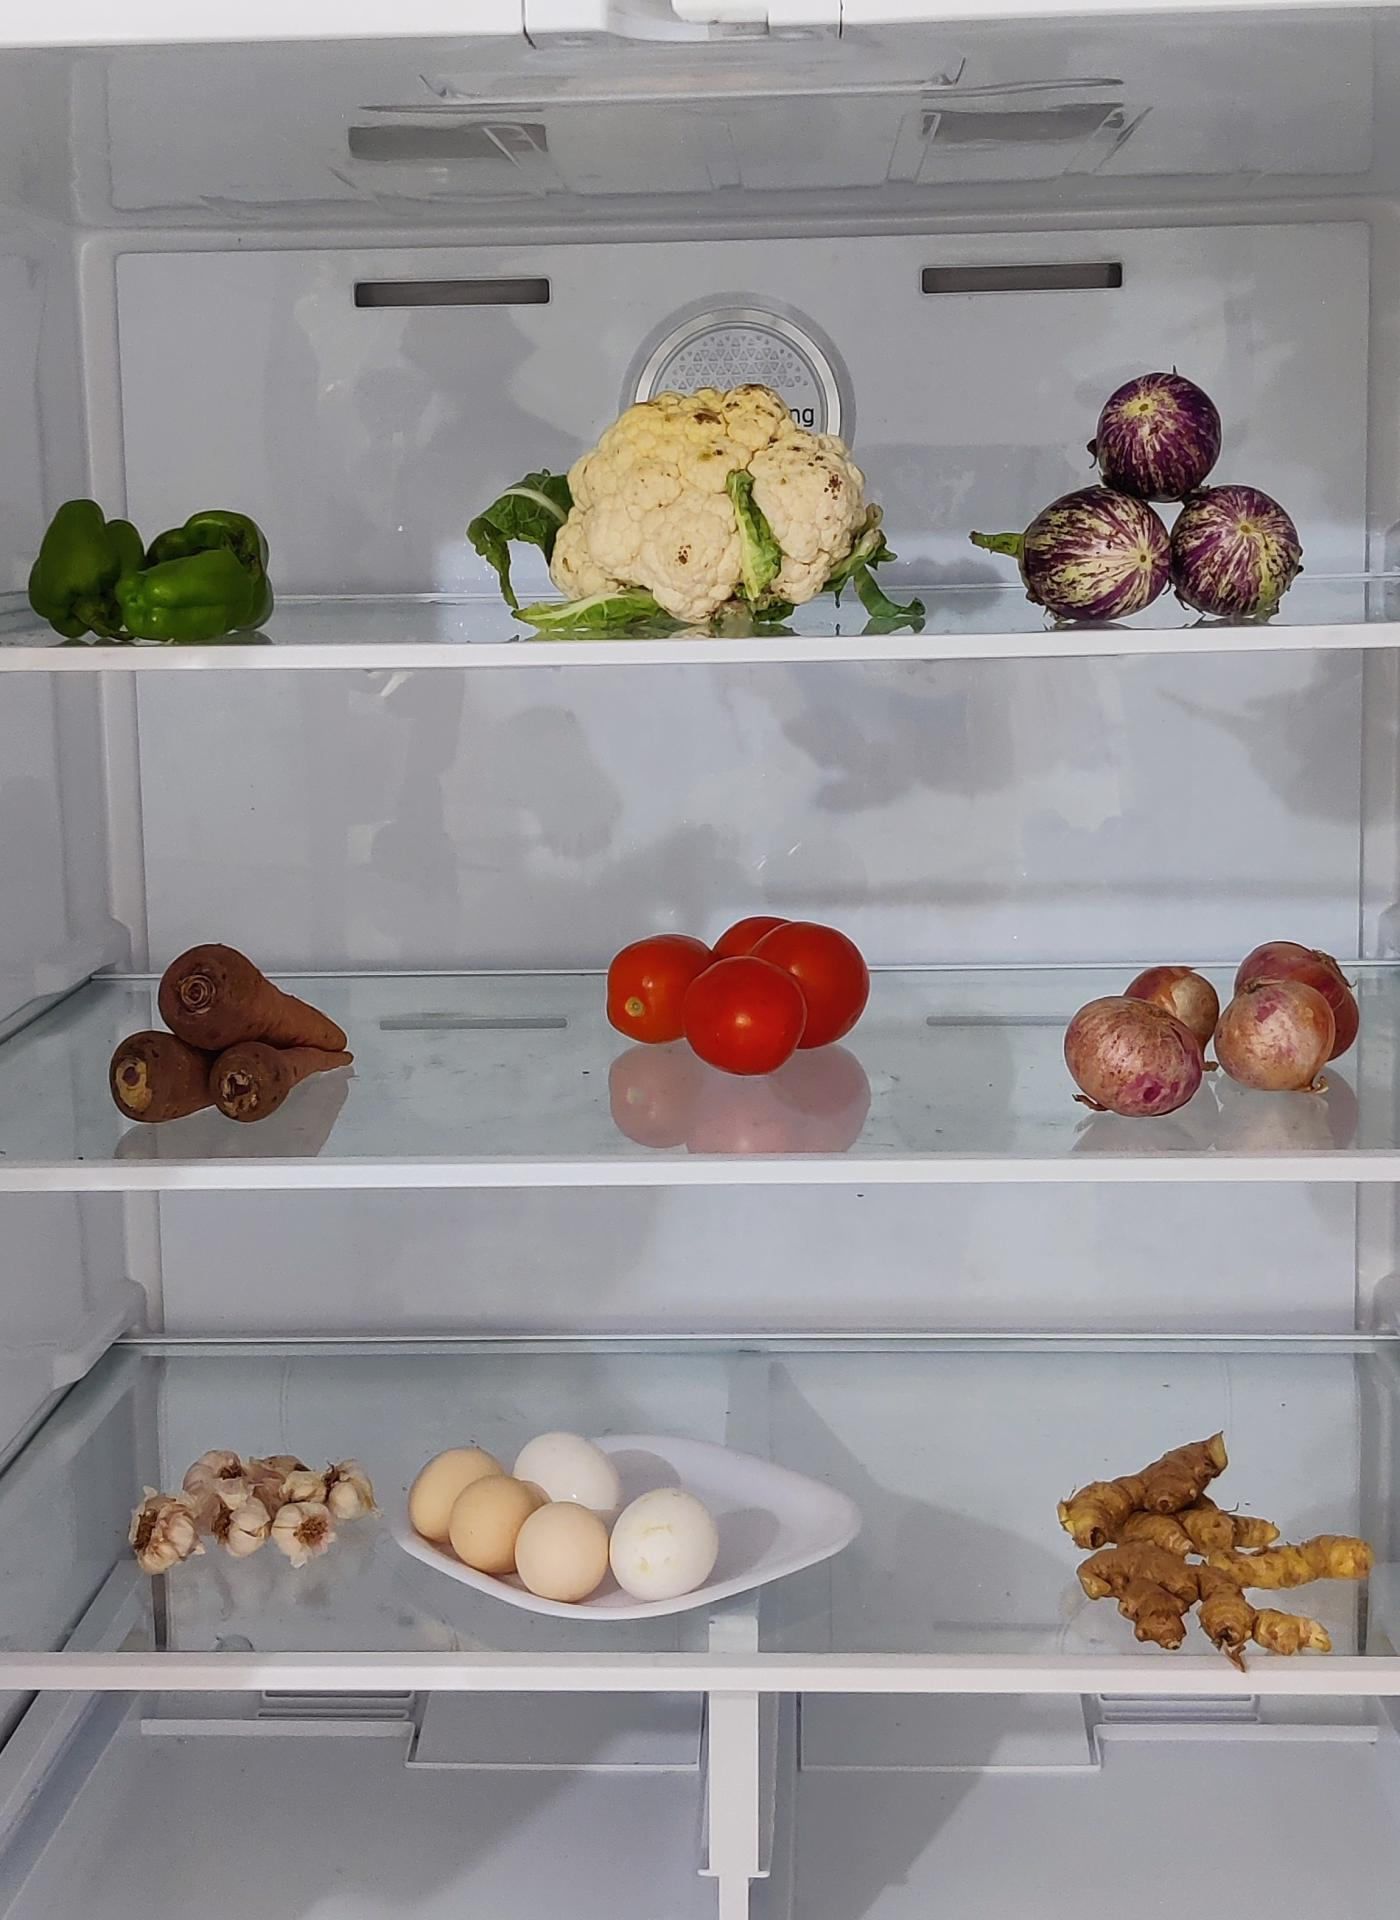brinjal: (1006, 359, 1305, 625)
capsicum: (28, 504, 285, 654)
carrots: (106, 941, 353, 1133)
cauliflower: (544, 380, 893, 620)
egg: (414, 1407, 735, 1597)
garlic: (127, 1444, 374, 1573)
ginger: (1062, 1440, 1373, 1667)
onion: (1071, 944, 1375, 1118)
tomato: (611, 914, 880, 1073)
